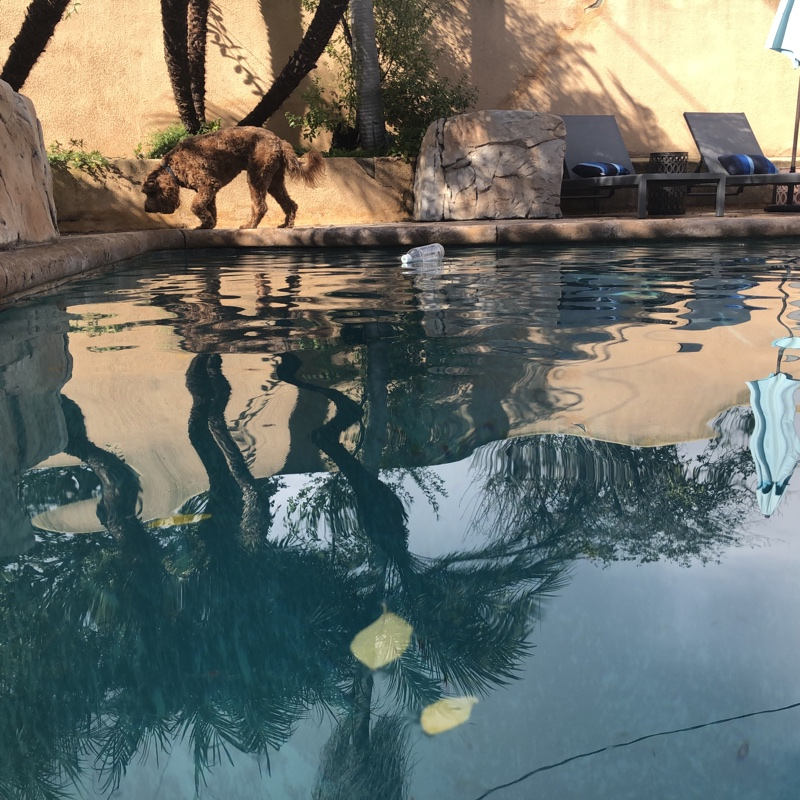Plastic Bottle: (398, 242, 448, 265)
